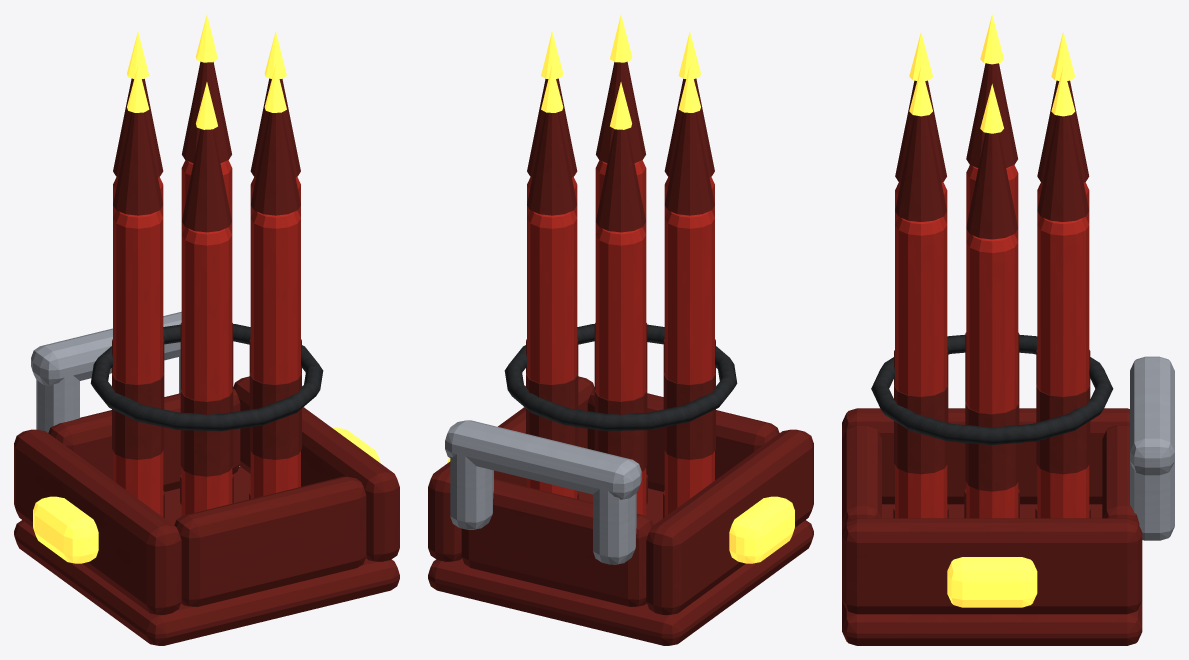
The model's file is pickup_flare_pack.glb.
3 views of the same model, side by side, from view 1: azimuth 30°, elevation 25°; view 2: azimuth 150°, elevation 25°; view 3: azimuth 270°, elevation 25° (orthographic). The views are drawn at different scales.
Parts seen in each view (by area): view 1: pickup_flare_pack_tray_f, pickup_flare_pack_tray_l, pickup_flare_pack_tray_floor, pickup_flare_pack_stick3, pickup_flare_pack_stick4, pickup_flare_pack_stick5, pickup_flare_pack_tray_r, pickup_flare_pack_band, pickup_flare_pack_tray_b, pickup_flare_pack_handle_bar, pickup_flare_pack_tip5, pickup_flare_pack_tip3 (+16 smaller); view 2: pickup_flare_pack_tray_l, pickup_flare_pack_tray_b, pickup_flare_pack_tray_floor, pickup_flare_pack_stick3, pickup_flare_pack_stick2, pickup_flare_pack_stick1, pickup_flare_pack_handle_bar, pickup_flare_pack_band, pickup_flare_pack_tray_f, pickup_flare_pack_tray_r, pickup_flare_pack_tip1, pickup_flare_pack_tip3 (+17 smaller); view 3: pickup_flare_pack_tray_r, pickup_flare_pack_stick1, pickup_flare_pack_stick5, pickup_flare_pack_stick0, pickup_flare_pack_tray_floor, pickup_flare_pack_tray_l, pickup_flare_pack_band, pickup_flare_pack_handle_bar, pickup_flare_pack_marker_r, pickup_flare_pack_tray_f, pickup_flare_pack_tip0, pickup_flare_pack_tip5 (+16 smaller).
Boxes of the visible parts, <box> form: pickup_flare_pack_tray_f: <box>174,476,366,606</box>; pickup_flare_pack_tray_l: <box>14,429,181,615</box>; pickup_flare_pack_tray_floor: <box>14,466,399,645</box>; pickup_flare_pack_stick3: <box>113,210,163,516</box>; pickup_flare_pack_stick4: <box>181,227,232,515</box>; pickup_flare_pack_stick5: <box>250,210,300,498</box>; pickup_flare_pack_tray_r: <box>233,376,399,561</box>; pickup_flare_pack_band: <box>90,324,323,431</box>; pickup_flare_pack_tray_b: <box>48,388,240,491</box>; pickup_flare_pack_handle_bar: <box>31,311,181,385</box>; pickup_flare_pack_tip5: <box>250,112,300,215</box>; pickup_flare_pack_tip3: <box>113,112,163,215</box>; pickup_flare_pack_tray_l: <box>646,429,813,615</box>; pickup_flare_pack_tray_b: <box>461,479,653,606</box>; pickup_flare_pack_tray_floor: <box>428,488,813,645</box>; pickup_flare_pack_stick3: <box>664,210,714,516</box>; pickup_flare_pack_stick2: <box>595,227,646,515</box>; pickup_flare_pack_stick1: <box>527,210,577,498</box>; pickup_flare_pack_handle_bar: <box>445,420,641,499</box>; pickup_flare_pack_band: <box>504,324,737,431</box>; pickup_flare_pack_tray_f: <box>587,388,779,491</box>; pickup_flare_pack_tray_r: <box>428,376,594,561</box>; pickup_flare_pack_tip1: <box>527,112,577,215</box>; pickup_flare_pack_tip3: <box>664,112,714,215</box>; pickup_flare_pack_tray_r: <box>842,518,1142,614</box>; pickup_flare_pack_stick1: <box>1037,217,1089,518</box>; pickup_flare_pack_stick5: <box>895,217,947,518</box>; pickup_flare_pack_stick0: <box>966,234,1018,518</box>; pickup_flare_pack_tray_floor: <box>842,504,1142,645</box>; pickup_flare_pack_tray_l: <box>842,408,1129,504</box>; pickup_flare_pack_band: <box>871,334,1113,444</box>; pickup_flare_pack_handle_bar: <box>1130,356,1174,475</box>; pickup_flare_pack_marker_r: <box>947,557,1037,607</box>; pickup_flare_pack_tray_f: <box>842,425,881,531</box>; pickup_flare_pack_tip0: <box>966,132,1018,239</box>; pickup_flare_pack_tip5: <box>895,115,946,221</box>.
Bounding box in the file's own units: 0.376 × 0.595 × 0.3325.
5 materials, 4 textured.
